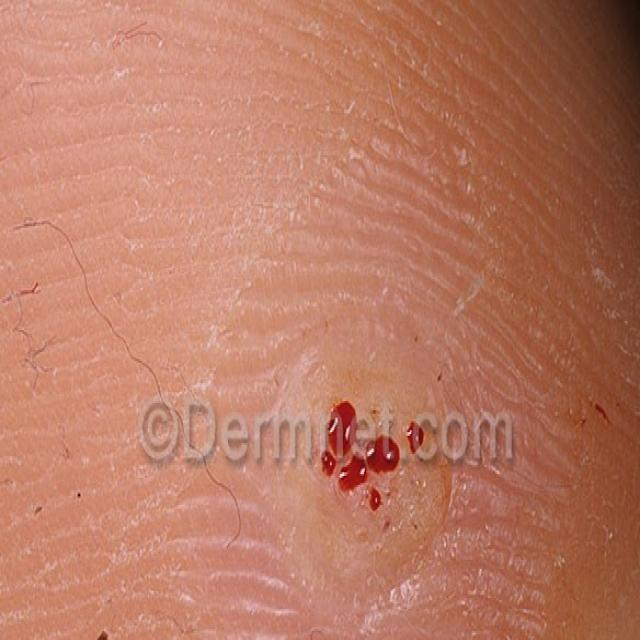Warts: (250, 301, 491, 640)
